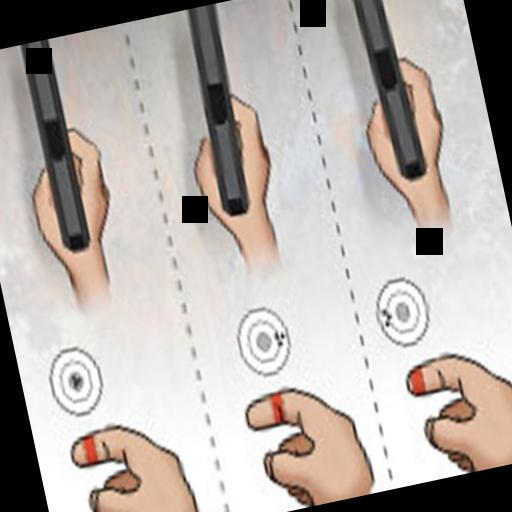Handgun: (14, 39, 98, 258), (179, 4, 262, 216), (339, 0, 425, 182)
